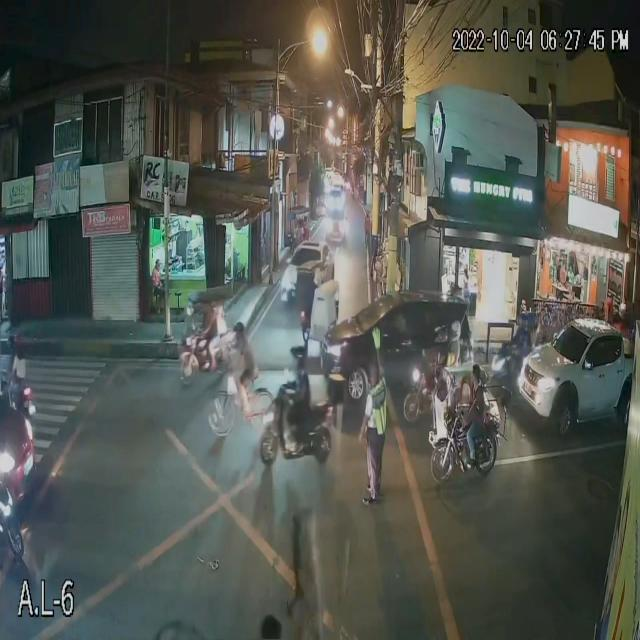Full-Faced: (12, 328, 26, 353), (2, 334, 18, 353)
